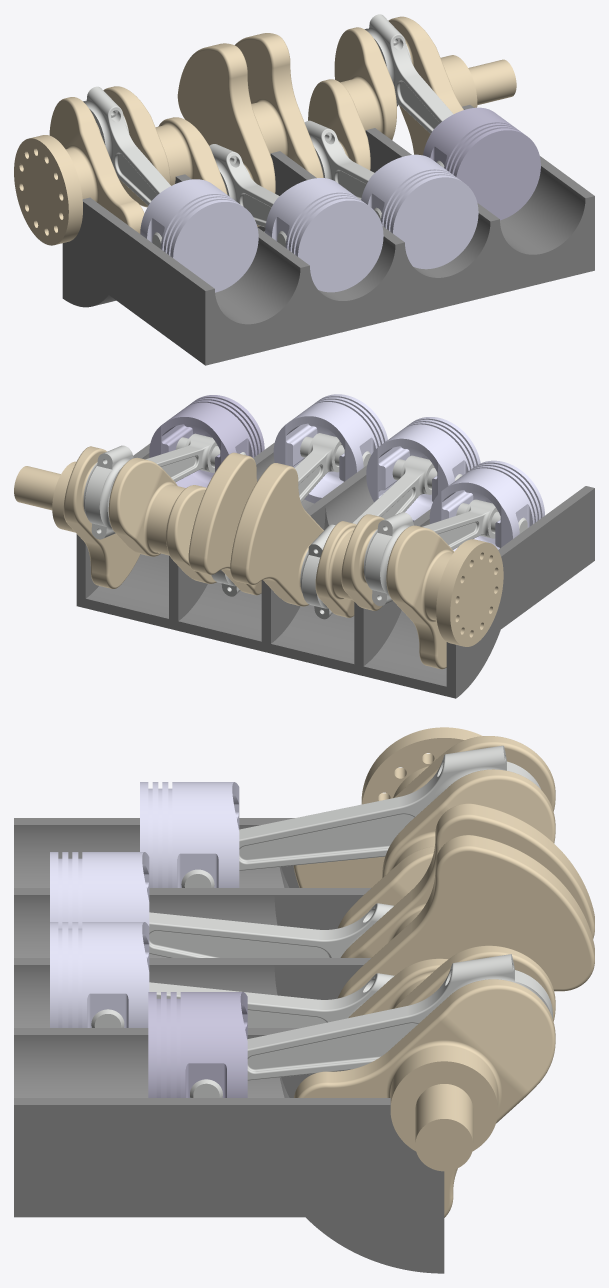
File: engineassembly.glb
3 renders of one model, top to bottom at view 1: azimuth 30°, elevation 25°; view 2: azimuth 150°, elevation 25°; view 3: azimuth 270°, elevation 25°, orthographic. The views are drawn at different scales.
Parts seen in each view (by area): view 1: Engine block_InstanceRep, Part1_InstanceRep, piston Head_InstanceRep (×4), road_InstanceRep (×4); view 2: Part1_InstanceRep, Engine block_InstanceRep, piston Head_InstanceRep (×4), road_InstanceRep (×4), Part1.1_InstanceRep (×3), piston pin_InstanceRep; view 3: Engine block_InstanceRep, Part1_InstanceRep, piston Head_InstanceRep (×4), road_InstanceRep (×4), Part1.1_InstanceRep (×2).
Part boxes in pixels (x1=…): Engine block_InstanceRep: x1=62, y1=105, x2=594, y2=365; Part1_InstanceRep: x1=14, y1=16, x2=516, y2=245; piston Head_InstanceRep (×4): x1=140, y1=107, x2=540, y2=292; road_InstanceRep (×4): x1=91, y1=24, x2=453, y2=227; Part1_InstanceRep: x1=14, y1=446, x2=503, y2=669; Engine block_InstanceRep: x1=76, y1=443, x2=594, y2=698; piston Head_InstanceRep (×4): x1=149, y1=394, x2=544, y2=551; road_InstanceRep (×4): x1=112, y1=433, x2=497, y2=549; Part1.1_InstanceRep (×3): x1=83, y1=449, x2=403, y2=619; piston pin_InstanceRep: x1=300, y1=436, x2=370, y2=467; Engine block_InstanceRep: x1=14, y1=818, x2=444, y2=1273; Part1_InstanceRep: x1=293, y1=727, x2=594, y2=1217; piston Head_InstanceRep (×4): x1=50, y1=782, x2=247, y2=1097; road_InstanceRep (×4): x1=149, y1=750, x2=484, y2=1080; Part1.1_InstanceRep (×2): x1=474, y1=745, x2=552, y2=1018.
Bounding box in the file's own units: 0.49 × 0.2035 × 0.3511.
